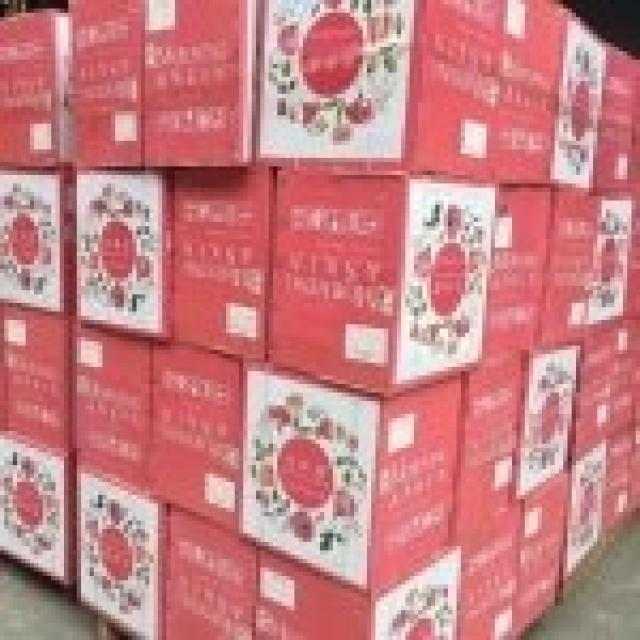box: (265, 166, 495, 397), (239, 363, 465, 597), (256, 0, 508, 183), (175, 166, 277, 363), (141, 0, 260, 166), (252, 546, 461, 640), (149, 341, 243, 533), (77, 166, 175, 341), (77, 461, 171, 640), (491, 0, 572, 183), (452, 354, 525, 546), (73, 324, 154, 491), (162, 508, 260, 640), (68, 0, 145, 166), (0, 9, 77, 166), (0, 307, 77, 457), (0, 435, 77, 585), (491, 183, 555, 363), (538, 183, 606, 350), (0, 166, 77, 311), (550, 17, 610, 192), (572, 320, 640, 465), (521, 341, 580, 499), (457, 503, 525, 640), (516, 469, 567, 640), (589, 188, 640, 333), (593, 47, 640, 188), (563, 448, 606, 597), (606, 427, 640, 546)
